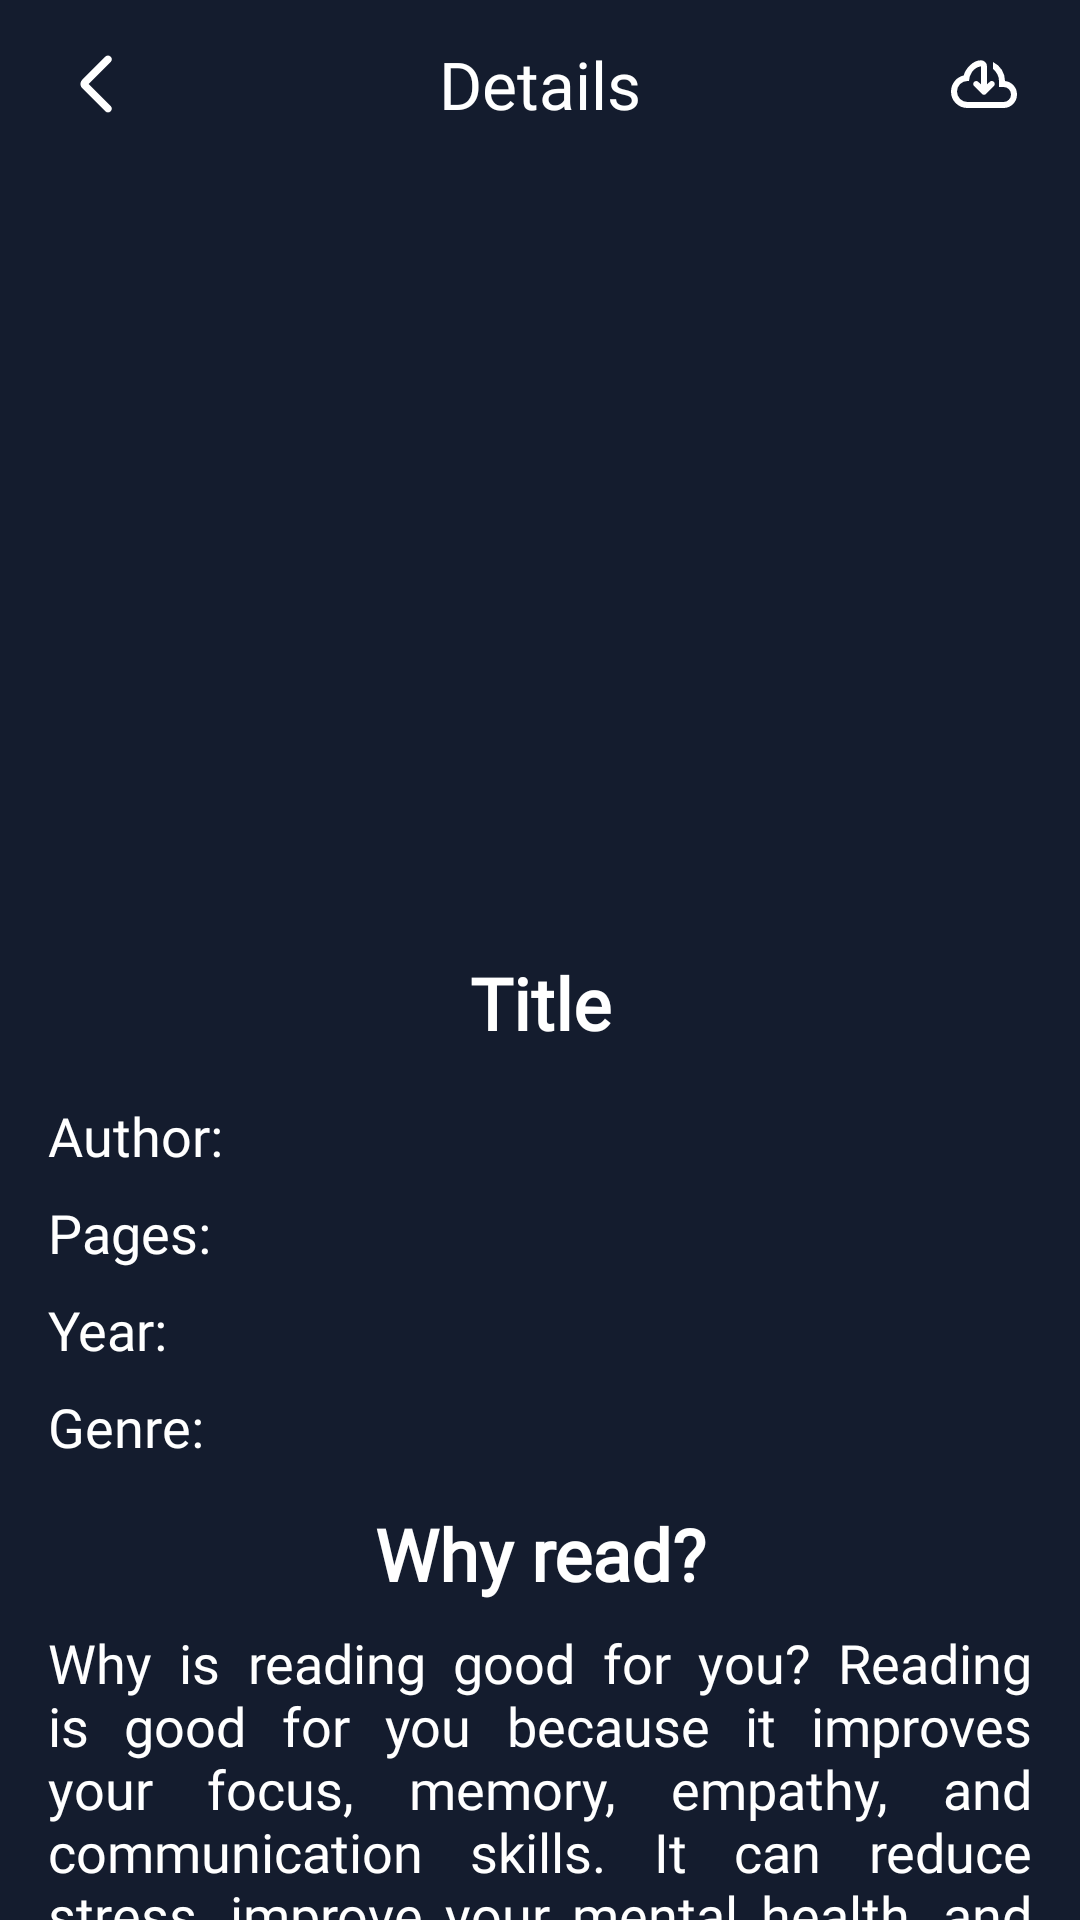

Point at icon controls on the screen. Image size 1080 × 1920, points as (x=x, y=y).
back: (x=96, y=84)
download: (x=984, y=84)
